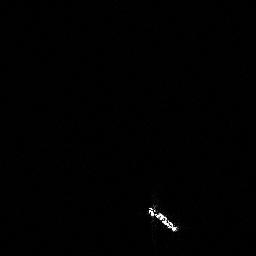ship: (146, 204, 179, 234)
